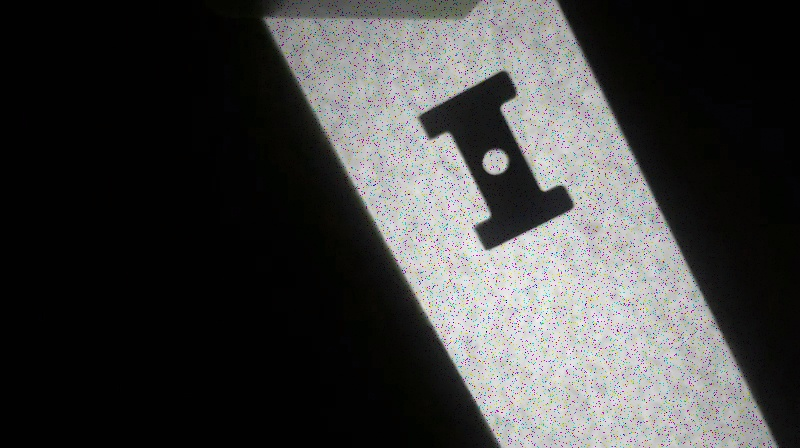O002: (414, 67, 577, 254)
